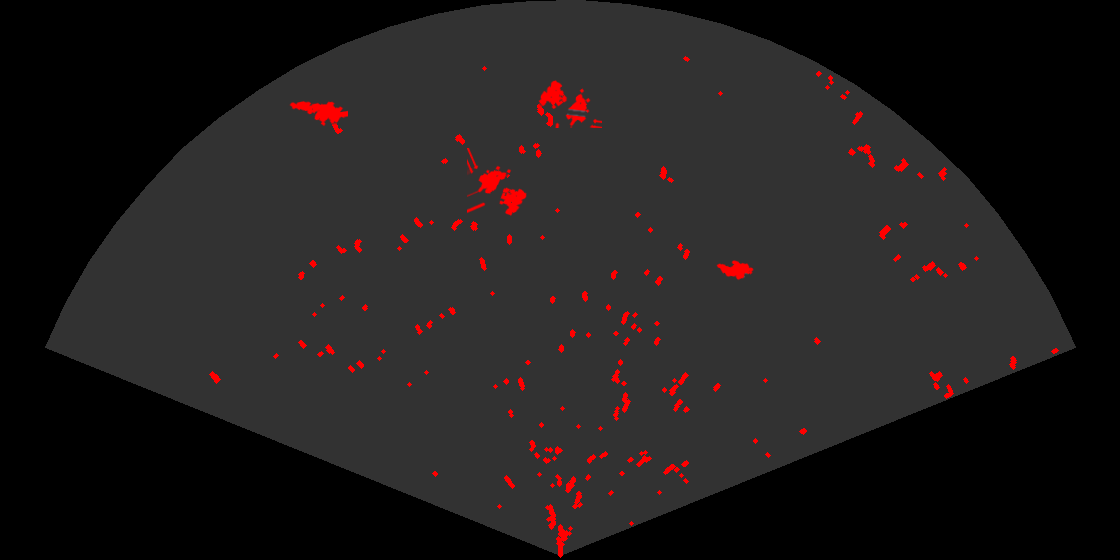AUV: (715, 259, 755, 282)
cage: (467, 148, 528, 218), (537, 79, 602, 128)
frogman: (288, 100, 348, 128)
